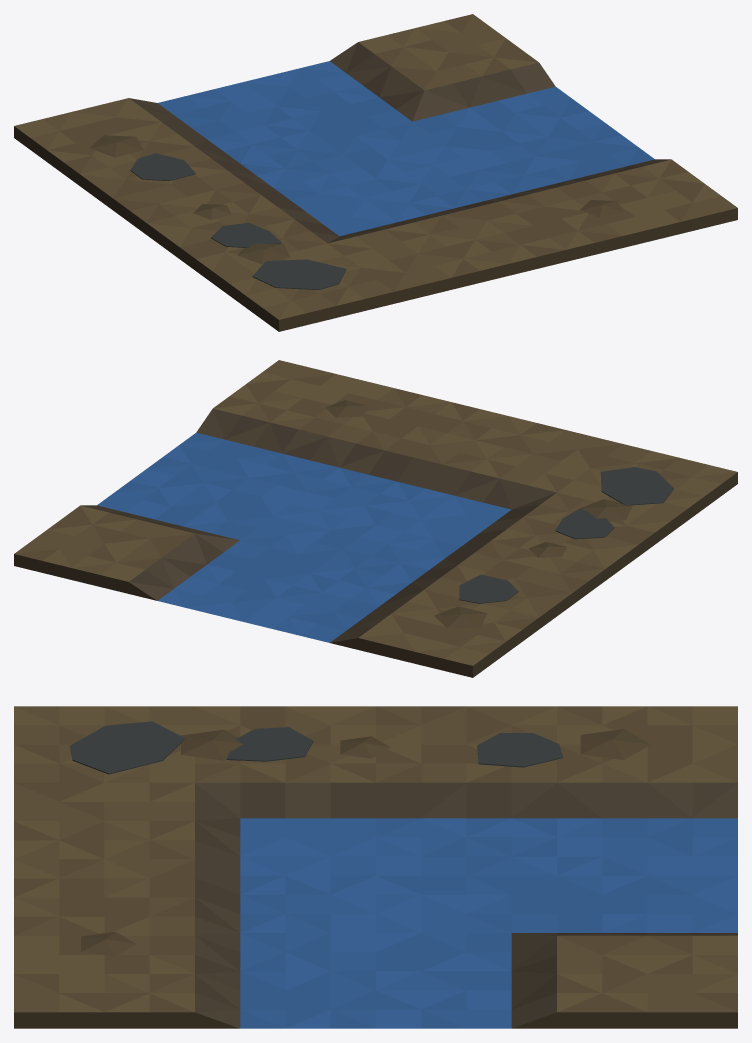
The model's file is river_bend_mud.glb.
The picture shows the model from 3 angles, top to bottom: view 1: azimuth 30°, elevation 25°; view 2: azimuth 150°, elevation 25°; view 3: azimuth 270°, elevation 25°; orthographic projection. The views are drawn at different scales.
Parts seen in each view (by area): view 1: river_bend_mud; view 2: river_bend_mud; view 3: river_bend_mud.
Boxes of the visible parts, x1,y1,x2,y2 form: river_bend_mud: [14, 14, 737, 331]; river_bend_mud: [14, 360, 737, 677]; river_bend_mud: [14, 706, 737, 1028].
Size of the model in its own units: 4 by 0.13 by 4.
